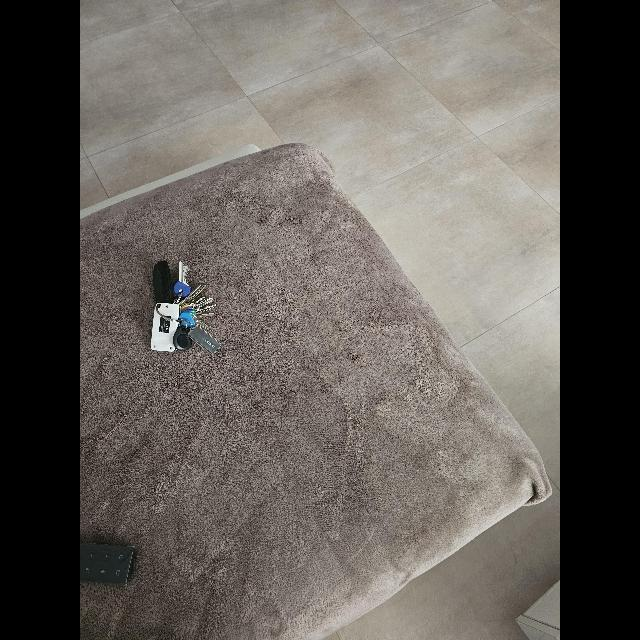Keys: (154, 258, 226, 356)
